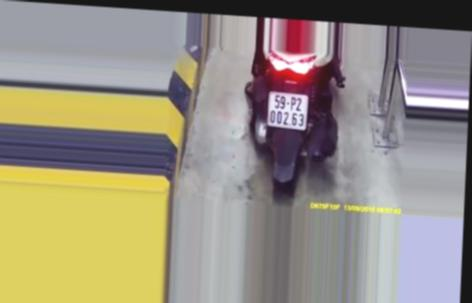License_Plate: (265, 89, 309, 134)
